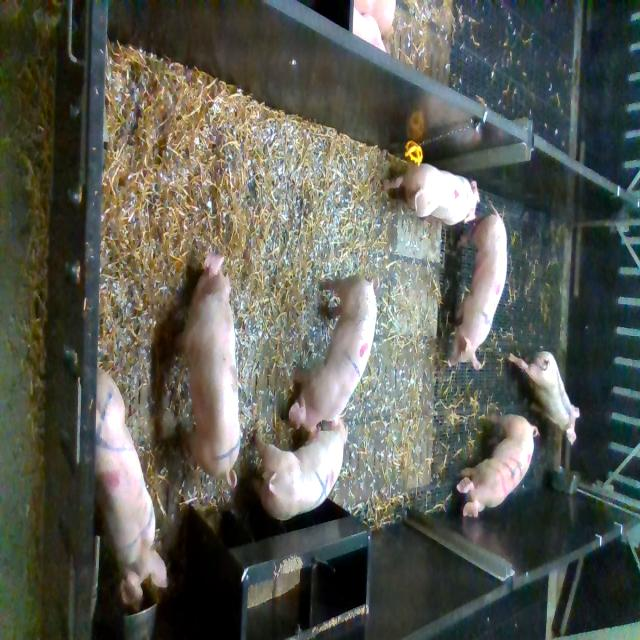pig: (95, 367, 168, 611), (174, 253, 241, 489), (289, 275, 377, 440), (250, 413, 348, 520), (447, 200, 507, 370), (456, 414, 540, 517), (509, 352, 579, 446), (382, 164, 480, 228)
